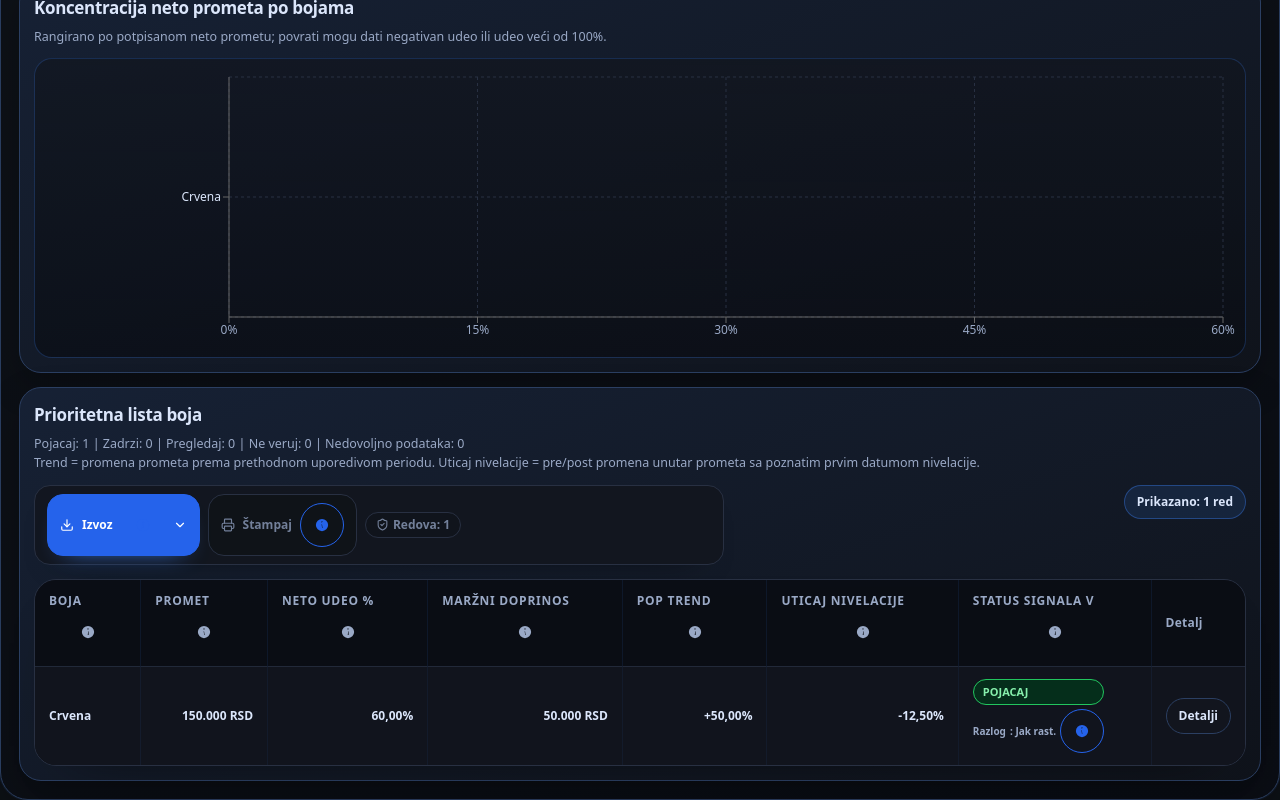
ColorSalesStatsPage › does not invent decision score 0 or reliability from margin coverage
This screenshot has width=1280, height=800.
(page scrolled)
Check: the heading "Prioritetna lista boja" is shown, box [34, 403, 202, 426]
Click the button "Detalji" at coordinates (1198, 716), box [1166, 698, 1231, 734]
(page scrolled)
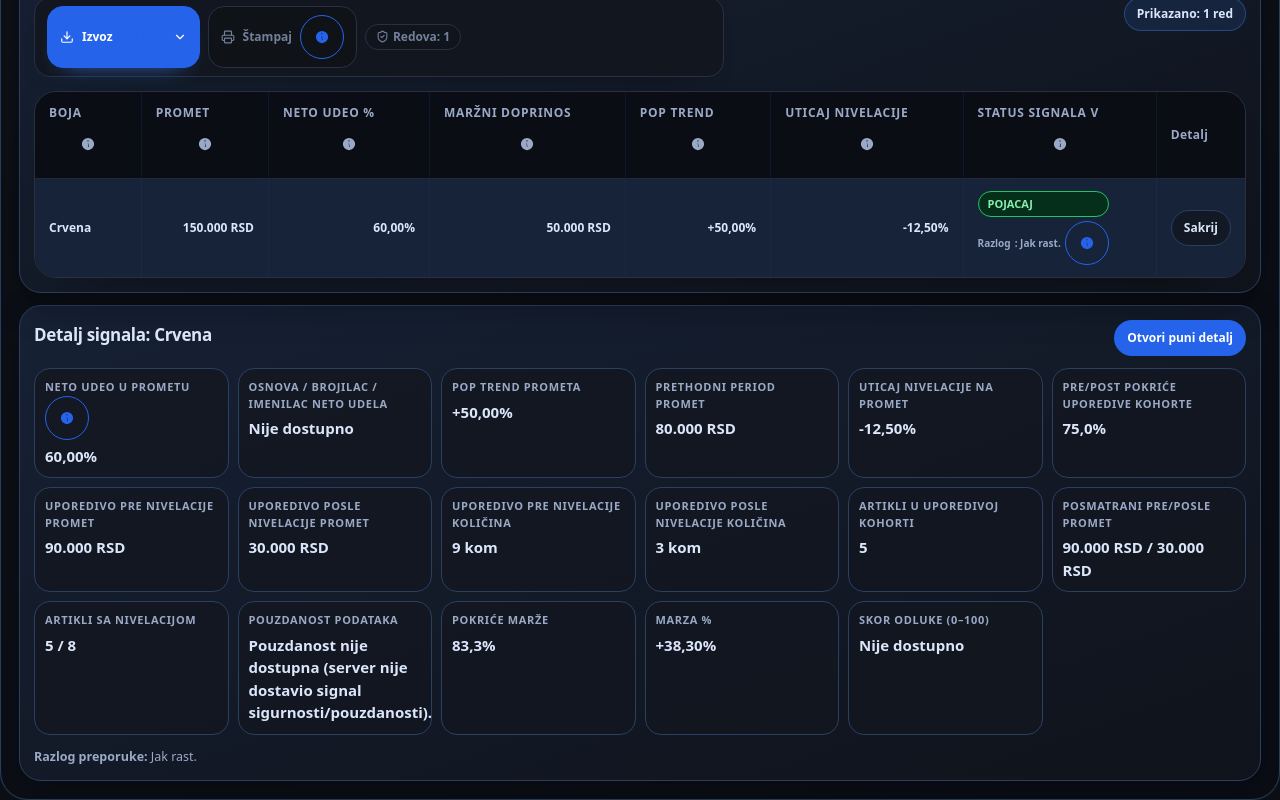
Check: the text "Pouzdanost podataka" does not show "83,3", box [238, 601, 432, 734]
Check: the text "Skor odluke (0–100)" shows "Nije dostupno", box [859, 634, 964, 654]
Check: the text "Pouzdanost podataka" shows "Pouzdanost nije dostupna (server nije dostavio signal sigurnosti/pouzdanosti).", box [248, 634, 432, 722]
